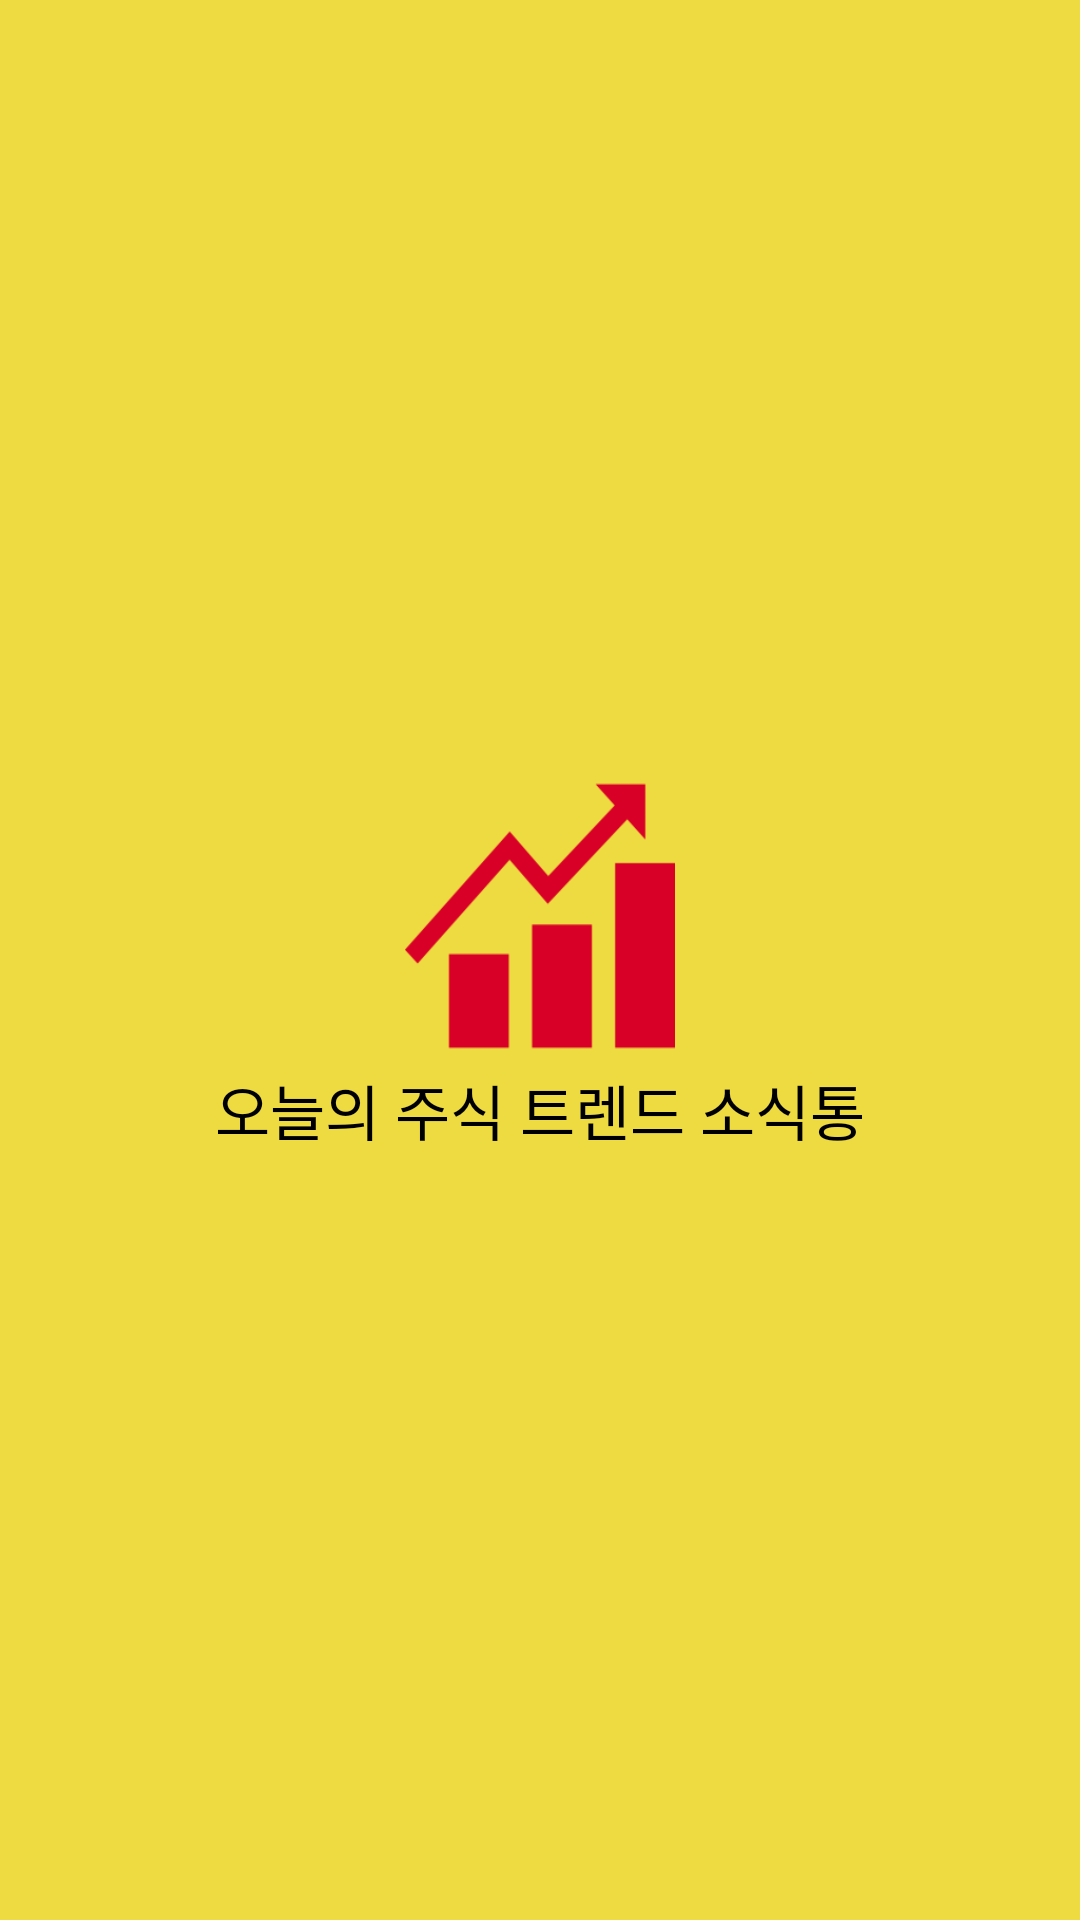

Screen size 1080px x 1920px. Icon name, then its center in pixels as (x,y):
money graph: (540,916)
